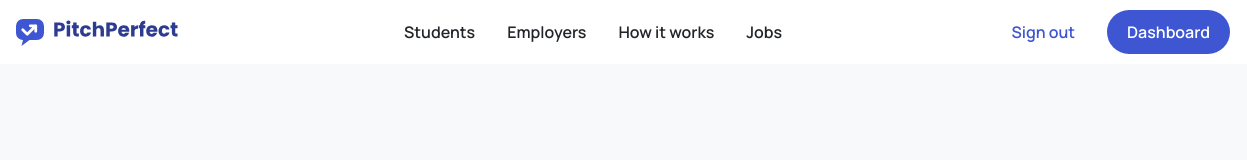
Test: Navbar with a session › signs out from the navbar and goes home
Click the button "Sign out". click: (1043, 32)
box: 991,10 -> 1095,54
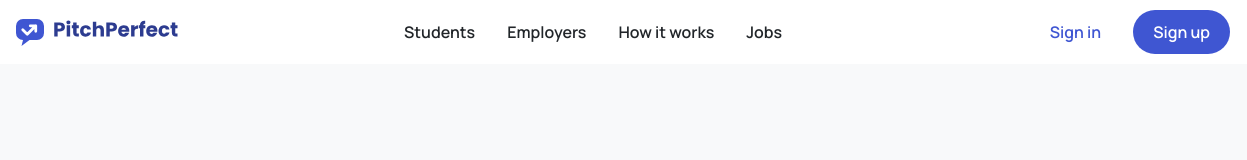
Now the link "Sign in" is shown, box 1050,21 -> 1101,43
